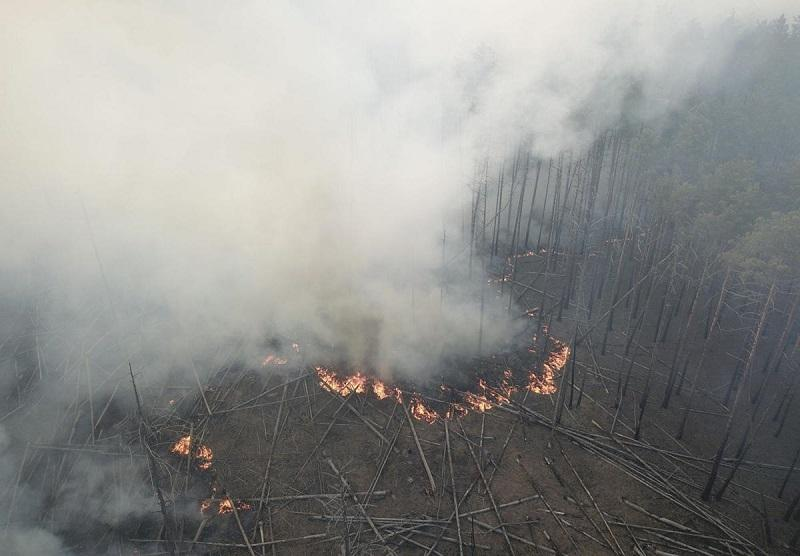Fire: (531, 342, 571, 392), (468, 381, 515, 412), (315, 371, 367, 397), (411, 397, 437, 421), (369, 378, 391, 400), (197, 445, 215, 470), (172, 438, 192, 457)
